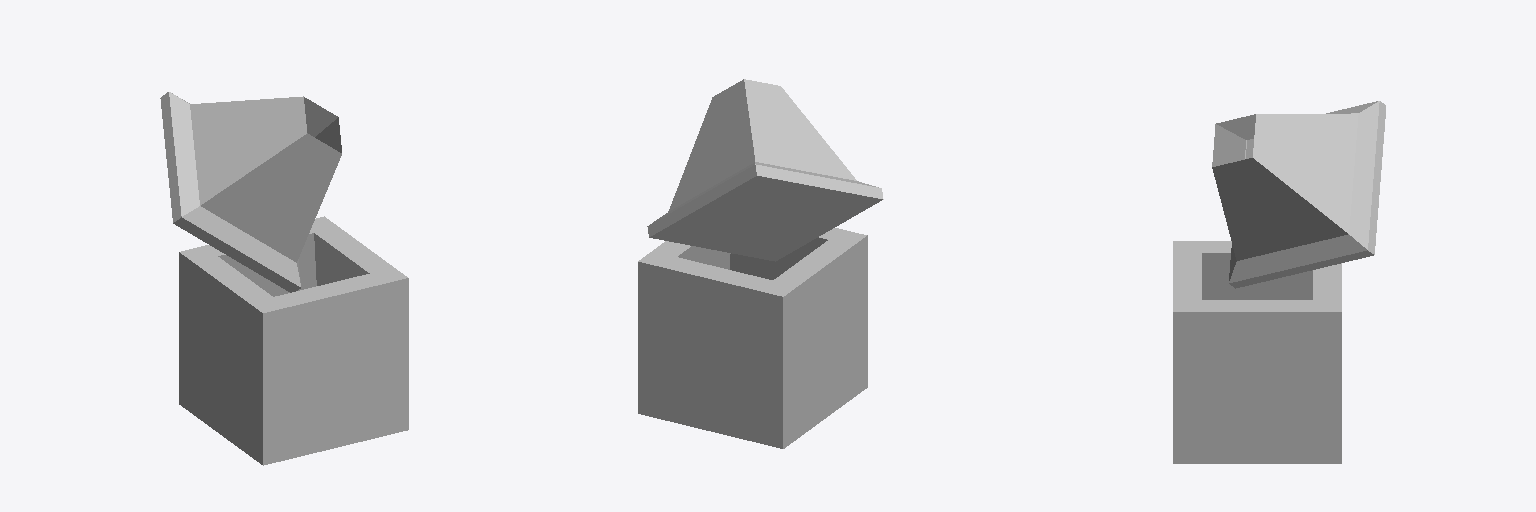
Rendered from AnimatedBox_000126.obj.
3 renders of one model, left to right at view 1: azimuth 30°, elevation 25°; view 2: azimuth 150°, elevation 25°; view 3: azimuth 270°, elevation 25°, orthographic.
Parts seen in each view (by area): view 1: Cube, Cube.001; view 2: Cube, Cube.001; view 3: Cube, Cube.001.
Part boxes in pixels (left/top/right/bottom): Cube: left=179, top=216, right=408, bottom=465; Cube.001: left=160, top=92, right=341, bottom=292; Cube: left=638, top=228, right=867, bottom=448; Cube.001: left=647, top=79, right=883, bottom=261; Cube: left=1173, top=241, right=1341, bottom=463; Cube.001: left=1212, top=101, right=1385, bottom=288.
Size of the model in its own units: 2.73 by 4.19 by 2.54.